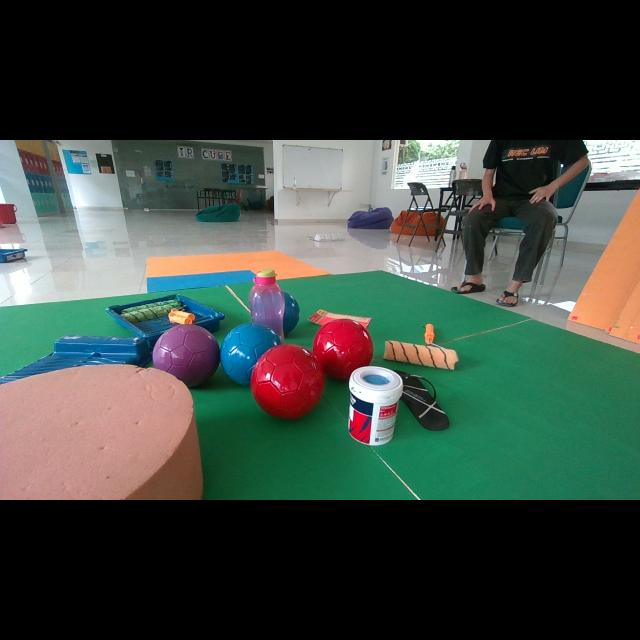B: (152, 324, 220, 386), (220, 322, 281, 385), (283, 292, 300, 333)
R: (250, 344, 325, 419), (312, 319, 374, 379)
